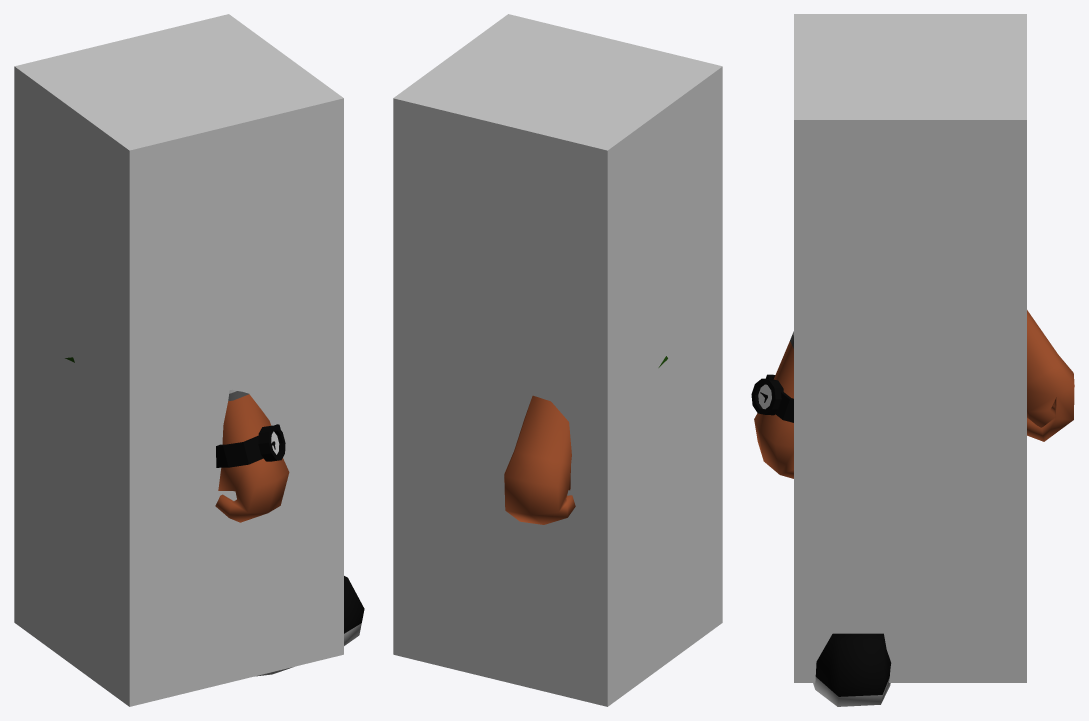
File: game1.obj
The picture shows the model from 3 angles, left to right: view 1: azimuth 30°, elevation 25°; view 2: azimuth 150°, elevation 25°; view 3: azimuth 270°, elevation 25°; orthographic projection.
Visible parts, largest first — view 1: Cube.015_Cube.029, Cube.001_Cube.028; view 2: Cube.015_Cube.029, Cube.001_Cube.028; view 3: Cube.015_Cube.029, Cube.001_Cube.028.
Boxes of the visible parts, x1=… form: Cube.015_Cube.029: x1=14, y1=14, x2=343, y2=706; Cube.001_Cube.028: x1=65, y1=357, x2=364, y2=676; Cube.015_Cube.029: x1=393, y1=14, x2=722, y2=706; Cube.001_Cube.028: x1=504, y1=356, x2=667, y2=524; Cube.015_Cube.029: x1=794, y1=14, x2=1026, y2=682; Cube.001_Cube.028: x1=751, y1=310, x2=1074, y2=706.
Size of what is drawn, in the model's own units: 0.9007 by 1.88 by 0.9641.
